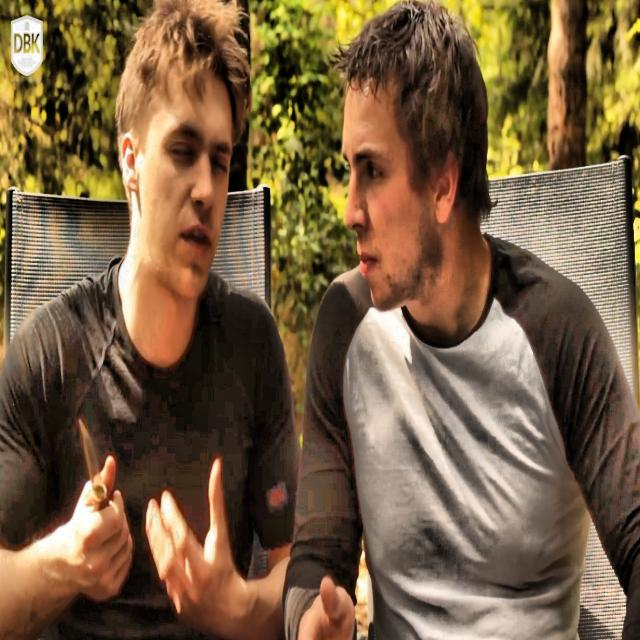knife: (79, 425, 112, 512)
